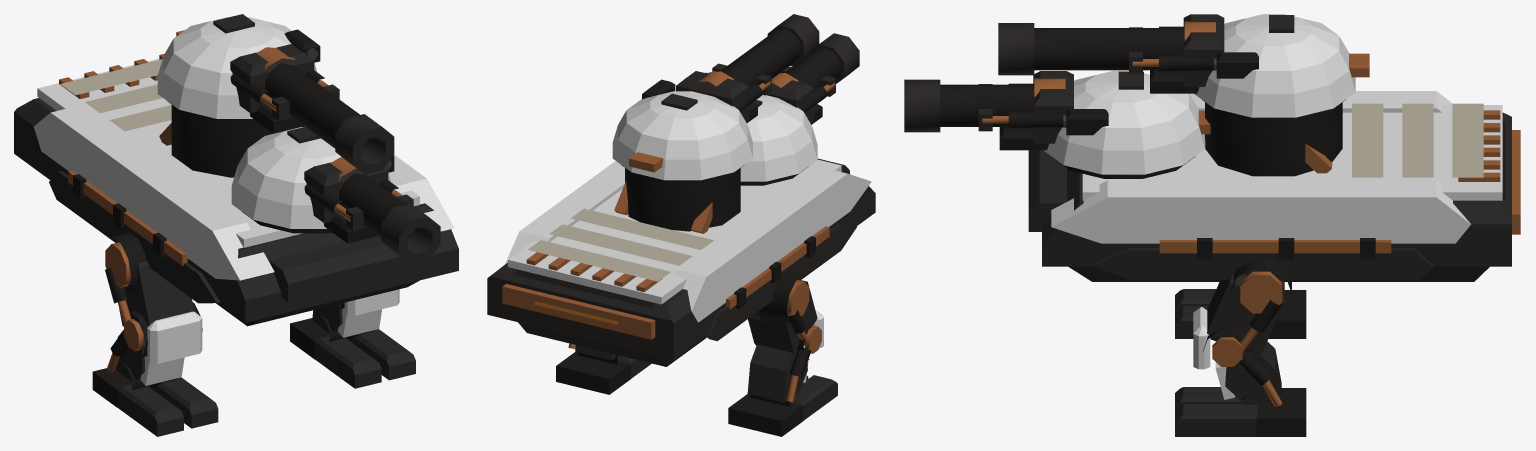
The model's file is lnd_t3_bot.d00d2335.glb.
3 renders of one model, left to right at view 1: azimuth 30°, elevation 25°; view 2: azimuth 150°, elevation 25°; view 3: azimuth 270°, elevation 25°, orthographic. The views are drawn at different scales.
Parts seen in each view (by area): view 1: lod0; view 2: lod0; view 3: lod0.
Part boxes in pixels (x1,y1,x2,y2): lod0: (14, 14, 458, 436); lod0: (487, 14, 875, 436); lod0: (904, 14, 1520, 436).
Size of what is drawn, in the model's own units: 1.66 by 2.1 by 3.35.
